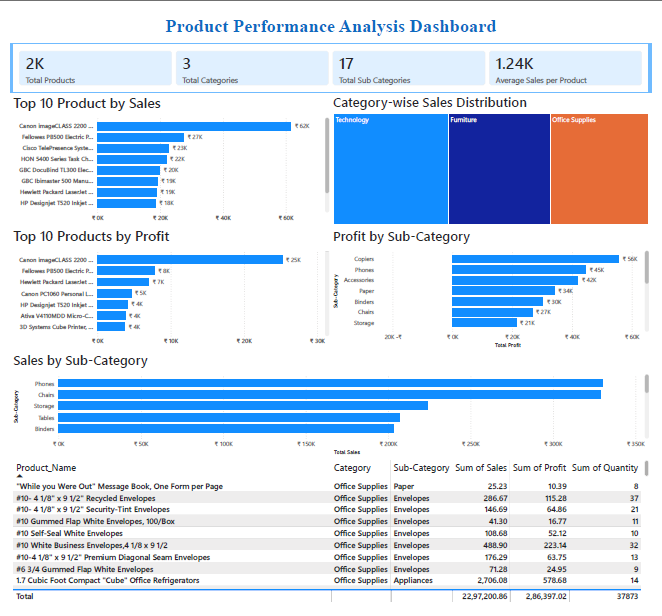

The page's visual inventory and layout, read from the dashboard file:
{"tool":"powerbi","page":{"name":"Product Performance Dashboard","canvas":[1300,1200],"ordinal":1},"visuals":[{"type":"cardVisual","fields":{"Data":["Orders.Total Products","Orders.Total Categories","Orders.Total Sub Categories","Orders.Average Sales per Product"]},"box":[0,59.6,1300,104.3],"z":0},{"type":"textbox","box":[0,0,1300,59.6],"z":1000},{"type":"clusteredBarChart","title":"Top 10 Product by Sales","fields":{"Category":["Orders.Product_Name"],"Y":["Orders.Total Sales"]},"box":[0,163.4,651.2,270.7],"z":2000},{"type":"clusteredBarChart","title":"Top 10 Products by Profit","fields":{"Category":["Orders.Product_Name"],"Y":["Orders.Total Profit"]},"box":[0,434.1,651.2,251.2],"z":3000},{"type":"treemap","title":"Category-wise Sales Distribution","fields":{"Group":["Orders.Category"],"Values":["Orders.Total Sales"]},"box":[648.8,163.4,651.2,270.7],"z":4000},{"type":"clusteredBarChart","title":"Profit by Sub-Category","fields":{"Category":["Orders.Sub-Category"],"Y":["Orders.Total Profit"]},"box":[648.8,434.1,651.2,251.2],"z":5000},{"type":"clusteredBarChart","title":"Sales by Sub-Category","fields":{"Category":["Orders.Sub-Category"],"Y":["Orders.Total Sales"]},"box":[0,685.4,1300,217.1],"z":6000},{"type":"tableEx","fields":{"Values":["Orders.Product_Name","Orders.Category","Orders.Sub-Category","Sum(Orders.Sales)","Sum(Orders.Profit)","Sum(Orders.Quantity)"]},"box":[0,902.8,1300,297.2],"z":7000}]}

Visuals, with their boxes in screenshot pixels (x1, y1, x2, y2), scaled from the page's 1300x1200 canvas onto the 662x616 screenshot:
cardVisual - Orders.Total Products x Orders.Total Categories: <box>0,31,661,84</box>
textbox: <box>0,0,661,31</box>
"Top 10 Product by Sales" clusteredBarChart: <box>0,84,332,223</box>
"Top 10 Products by Profit" clusteredBarChart: <box>0,223,332,352</box>
"Category-wise Sales Distribution" treemap: <box>330,84,661,223</box>
"Profit by Sub-Category" clusteredBarChart: <box>330,223,661,352</box>
"Sales by Sub-Category" clusteredBarChart: <box>0,352,661,463</box>
tableEx - Orders.Product_Name x Orders.Category: <box>0,463,661,615</box>
